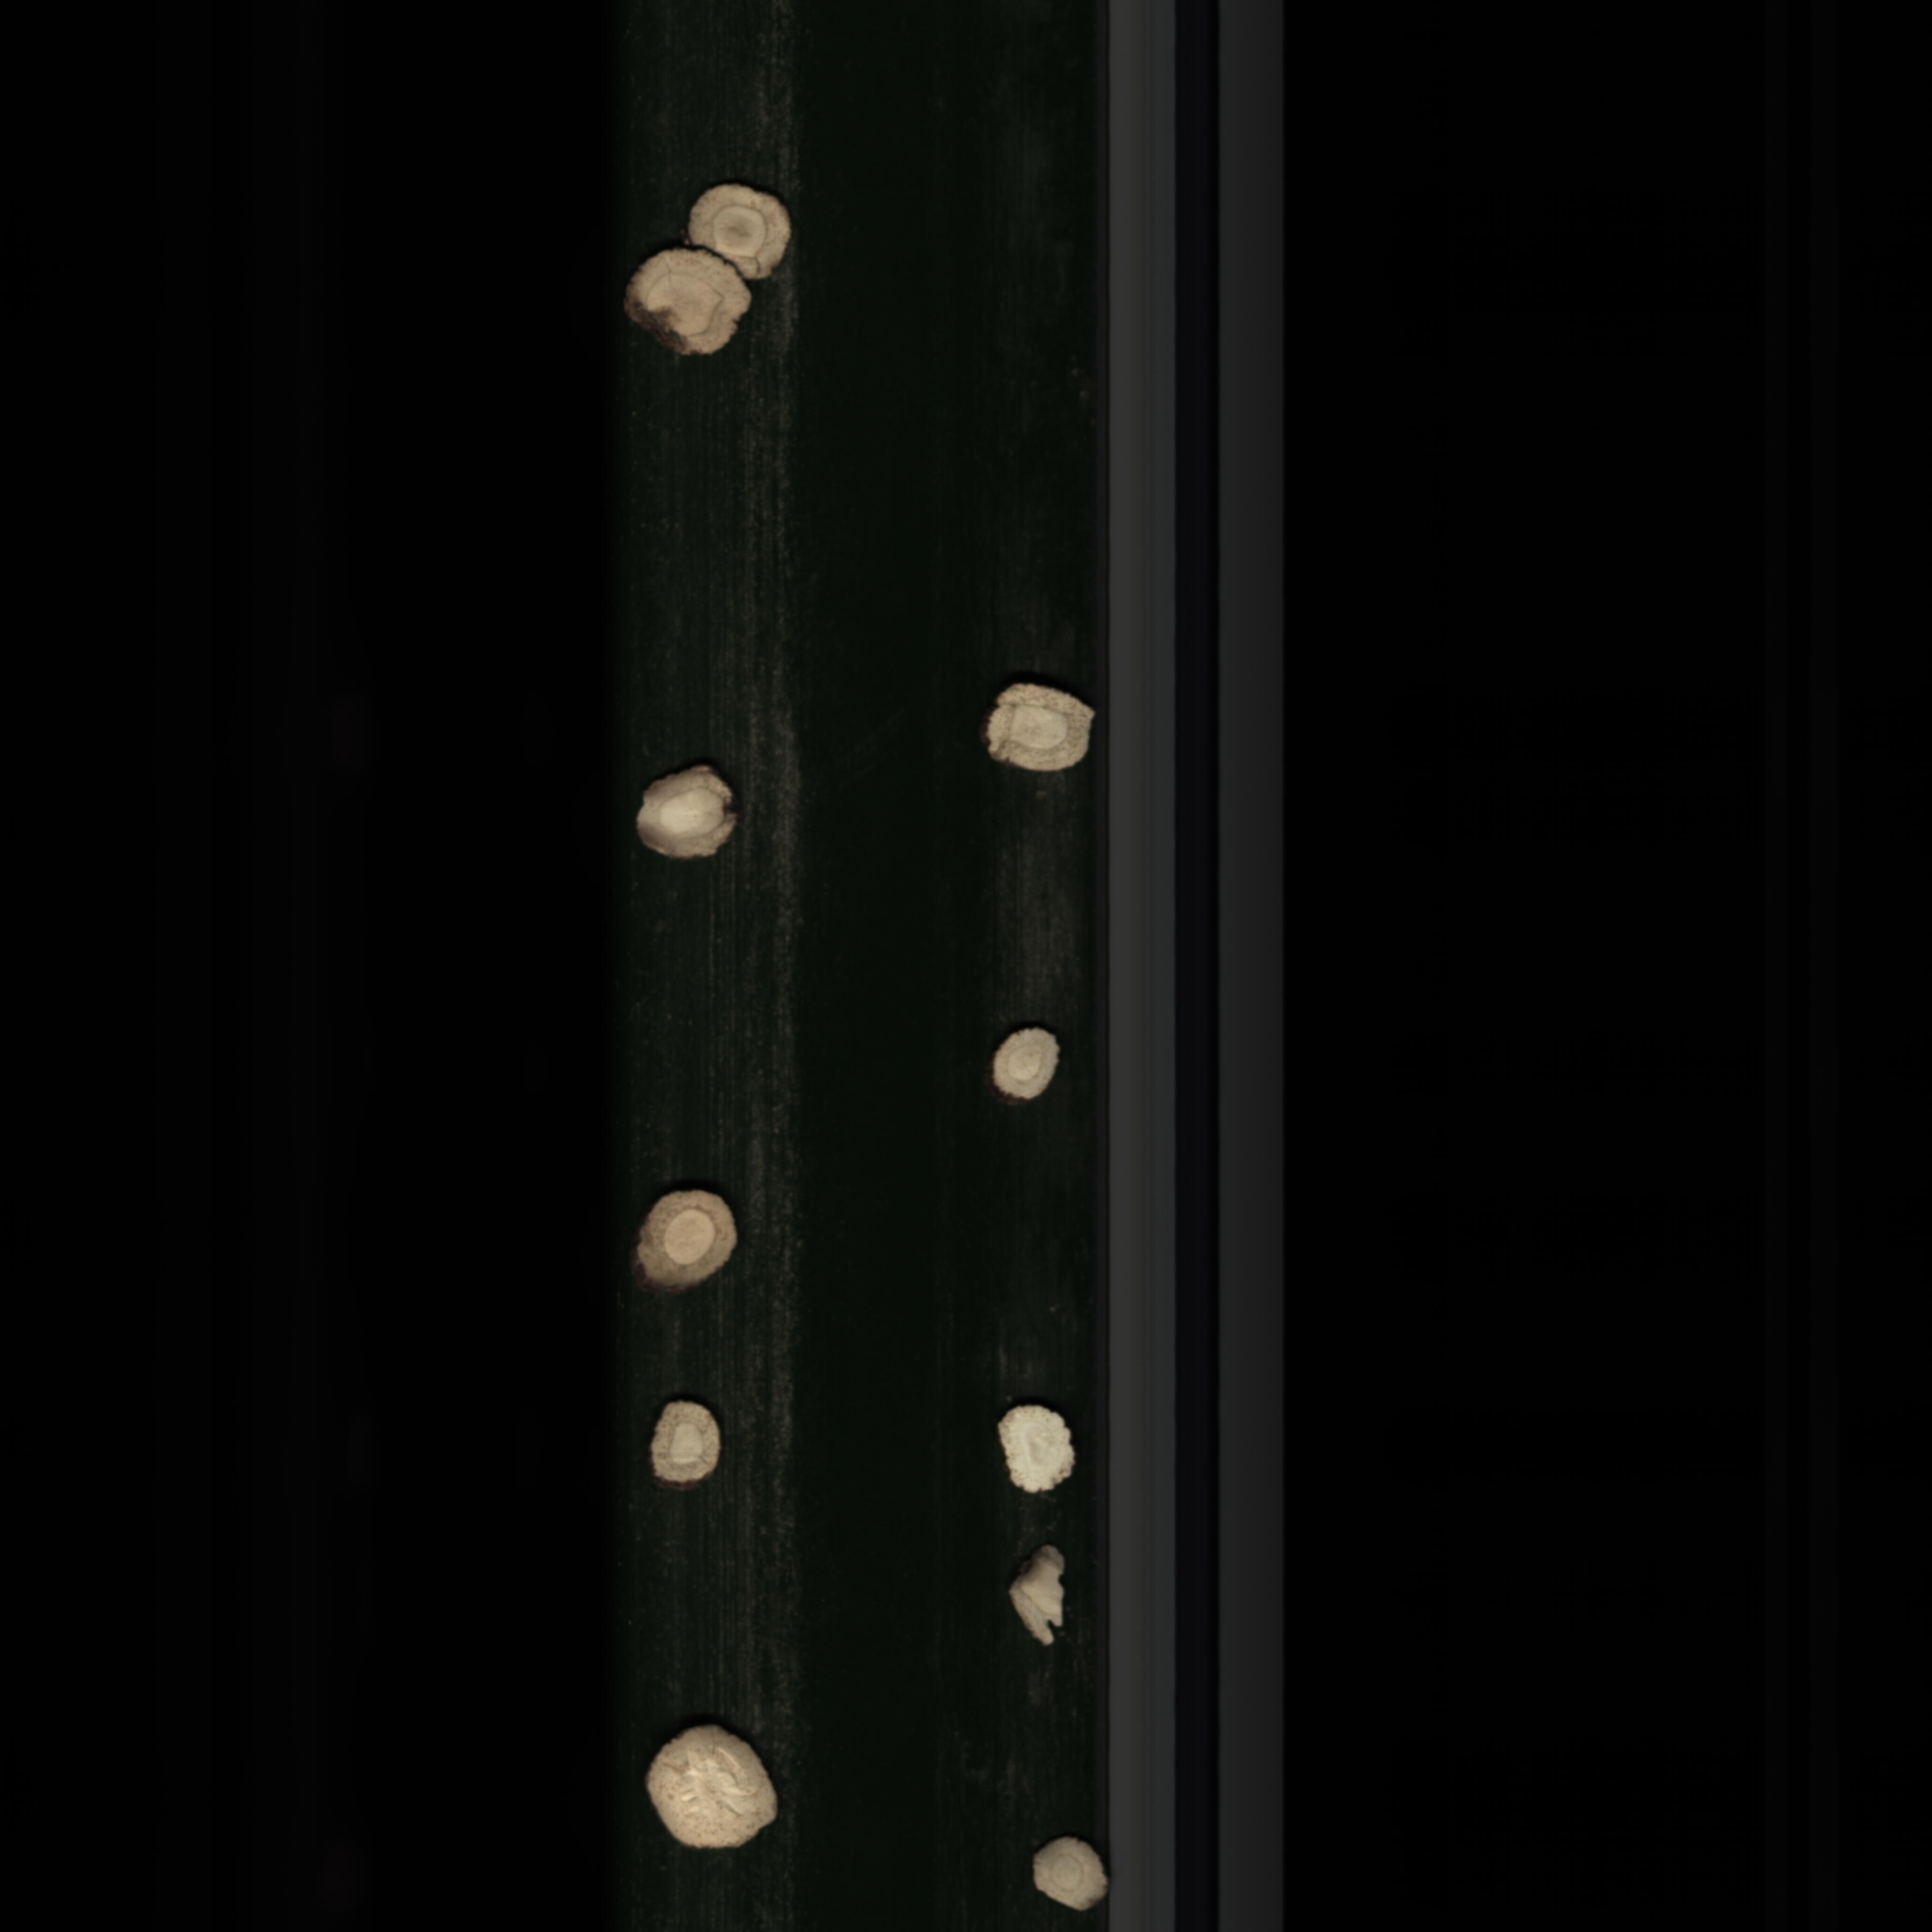debris: (984, 1394, 1088, 1497), (994, 1539, 1077, 1652)
distortion: (628, 757, 752, 869)
